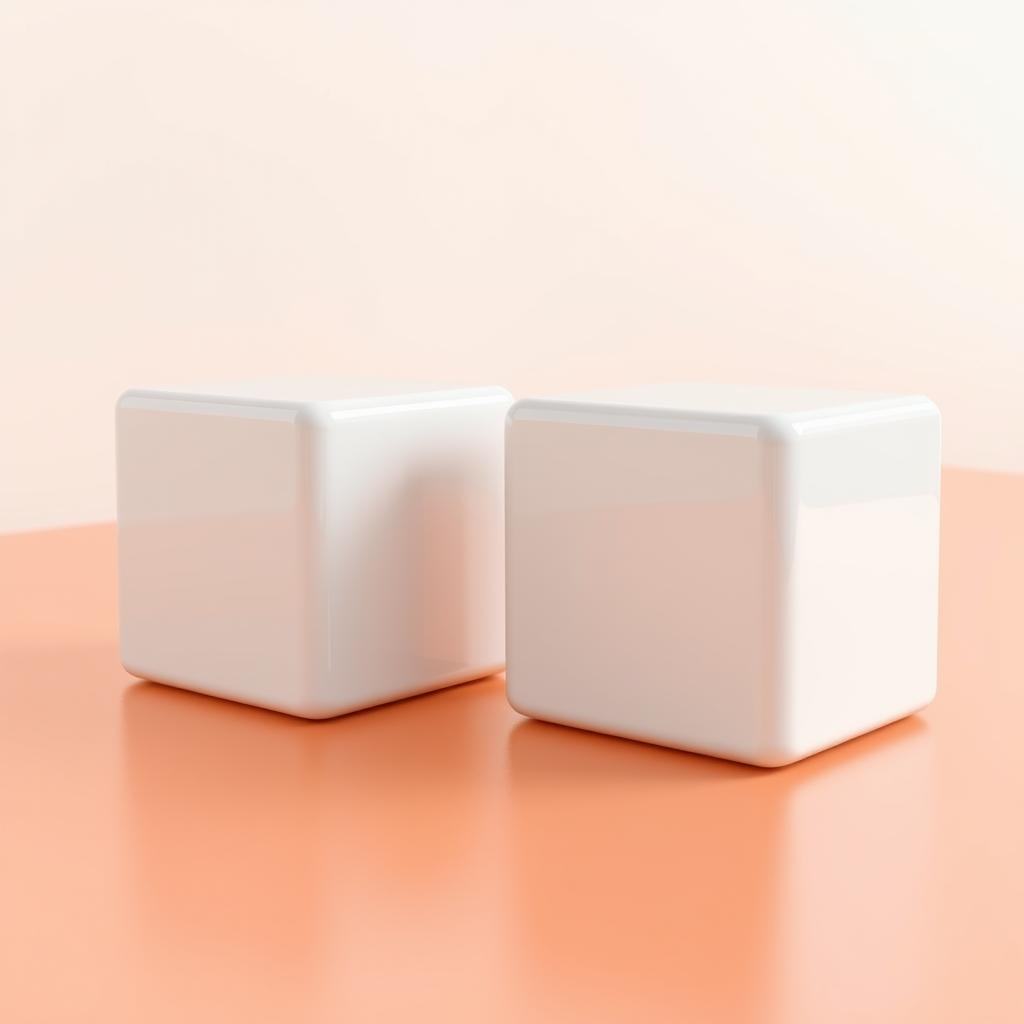cube: (503, 382, 942, 769), (114, 378, 512, 721)
